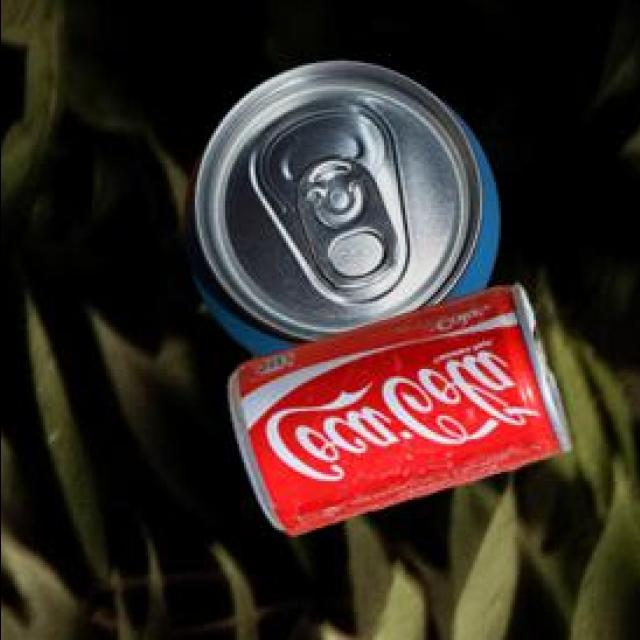logam: (188, 67, 501, 361), (230, 288, 573, 538)
